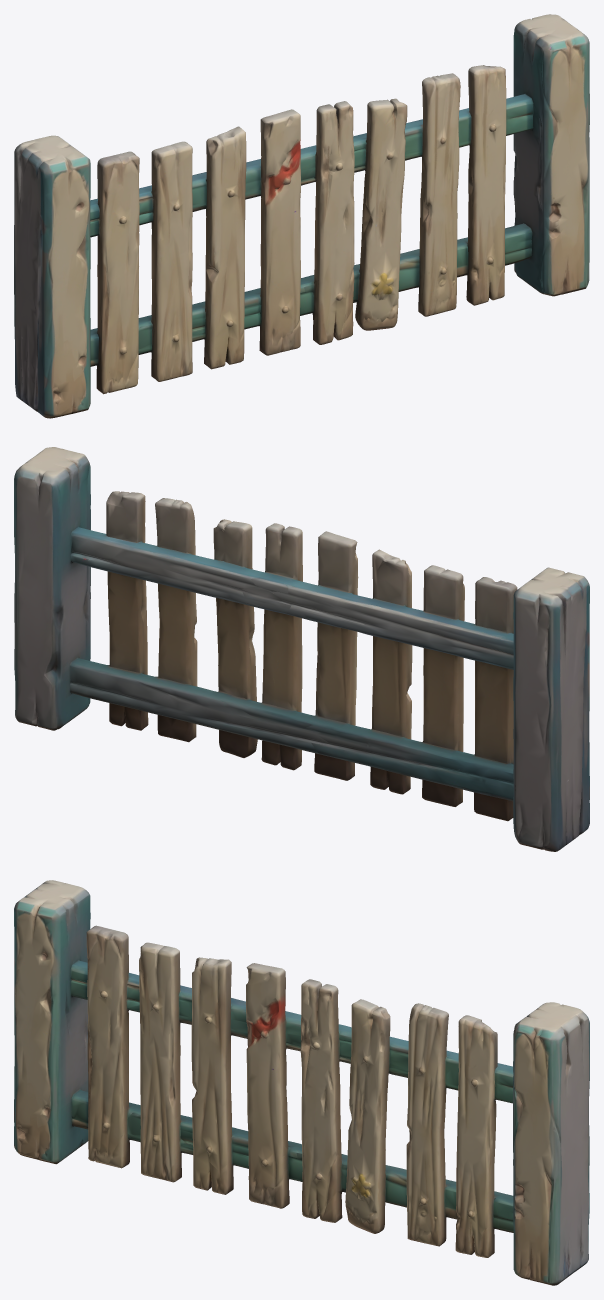
Rendered from fence_wood.glb.
3 renders of one model, top to bottom at view 1: azimuth 30°, elevation 25°; view 2: azimuth 150°, elevation 25°; view 3: azimuth 330°, elevation 25°, orthographic.
Parts seen in each view (by area): view 1: tripo_part_1, tripo_part_0, tripo_part_3, tripo_part_9, tripo_part_4, tripo_part_2, tripo_part_8, tripo_part_6, tripo_part_7, tripo_part_5, tripo_part_12, tripo_part_13 (+2 smaller); view 2: tripo_part_1, tripo_part_0, tripo_part_12, tripo_part_10, tripo_part_11, tripo_part_2, tripo_part_13, tripo_part_4, tripo_part_9, tripo_part_3, tripo_part_7, tripo_part_5 (+3 smaller); view 3: tripo_part_0, tripo_part_1, tripo_part_3, tripo_part_4, tripo_part_9, tripo_part_2, tripo_part_8, tripo_part_7, tripo_part_5, tripo_part_6, tripo_part_10, tripo_part_12 (+2 smaller).
Part boxes in pixels (x1=…): tripo_part_1: x1=14, y1=135, x2=90, y2=418; tripo_part_0: x1=513, y1=14, x2=589, y2=296; tripo_part_3: x1=96, y1=151, x2=139, y2=394; tripo_part_9: x1=151, y1=141, x2=204, y2=381; tripo_part_4: x1=259, y1=109, x2=305, y2=355; tripo_part_2: x1=301, y1=101, x2=354, y2=344; tripo_part_8: x1=193, y1=126, x2=246, y2=369; tripo_part_6: x1=355, y1=98, x2=407, y2=330; tripo_part_7: x1=418, y1=73, x2=460, y2=316; tripo_part_5: x1=466, y1=65, x2=506, y2=305; tripo_part_12: x1=300, y1=223, x2=532, y2=315; tripo_part_13: x1=353, y1=93, x2=533, y2=172; tripo_part_1: x1=513, y1=567, x2=589, y2=851; tripo_part_0: x1=14, y1=447, x2=90, y2=730; tripo_part_12: x1=70, y1=658, x2=327, y2=753; tripo_part_10: x1=271, y1=579, x2=513, y2=669; tripo_part_11: x1=301, y1=716, x2=513, y2=801; tripo_part_2: x1=251, y1=523, x2=302, y2=770; tripo_part_13: x1=70, y1=527, x2=277, y2=607; tripo_part_4: x1=301, y1=531, x2=358, y2=780; tripo_part_9: x1=422, y1=565, x2=464, y2=806; tripo_part_3: x1=474, y1=577, x2=517, y2=821; tripo_part_7: x1=155, y1=498, x2=197, y2=742; tripo_part_5: x1=106, y1=491, x2=148, y2=730; tripo_part_0: x1=513, y1=1002, x2=589, y2=1285; tripo_part_1: x1=14, y1=880, x2=90, y2=1164; tripo_part_3: x1=86, y1=925, x2=129, y2=1168; tripo_part_4: x1=245, y1=963, x2=300, y2=1208; tripo_part_9: x1=139, y1=942, x2=193, y2=1182; tripo_part_2: x1=296, y1=979, x2=342, y2=1222; tripo_part_8: x1=186, y1=957, x2=233, y2=1194; tripo_part_7: x1=406, y1=1003, x2=448, y2=1246; tripo_part_5: x1=455, y1=1015, x2=497, y2=1257; tripo_part_6: x1=345, y1=999, x2=390, y2=1233; tripo_part_10: x1=70, y1=960, x2=301, y2=1051; tripo_part_12: x1=288, y1=1142, x2=513, y2=1232.
Bounding box in the file's own units: 0.9792 × 0.4351 × 0.1137.
Materials: 1 (1 with a texture image).
